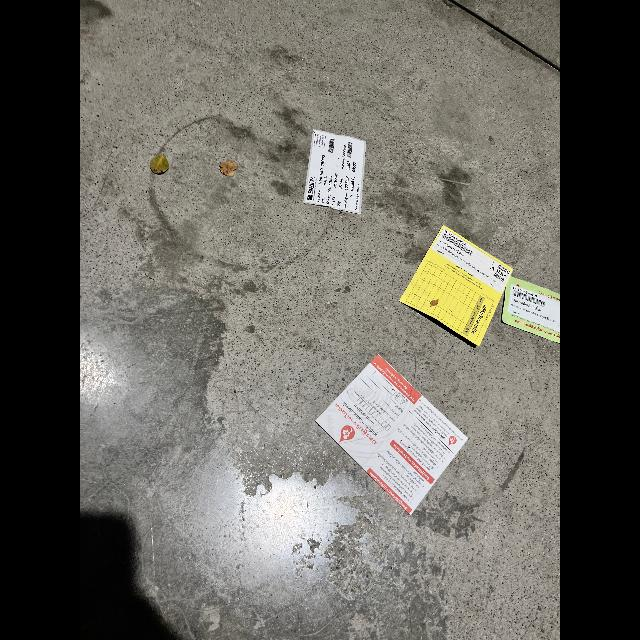scrap_paper: (318, 353, 474, 513), (398, 222, 516, 344), (295, 128, 377, 222), (502, 280, 560, 340)
